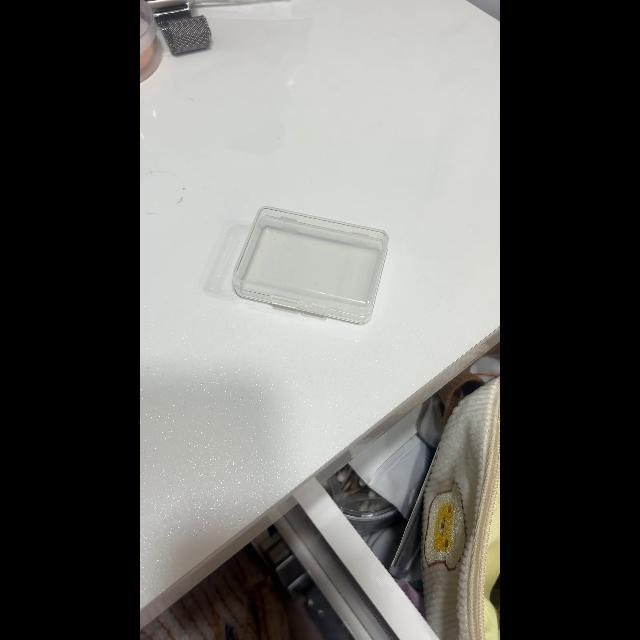clean: (238, 217, 388, 311)
